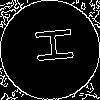H: (25, 25, 74, 66)
